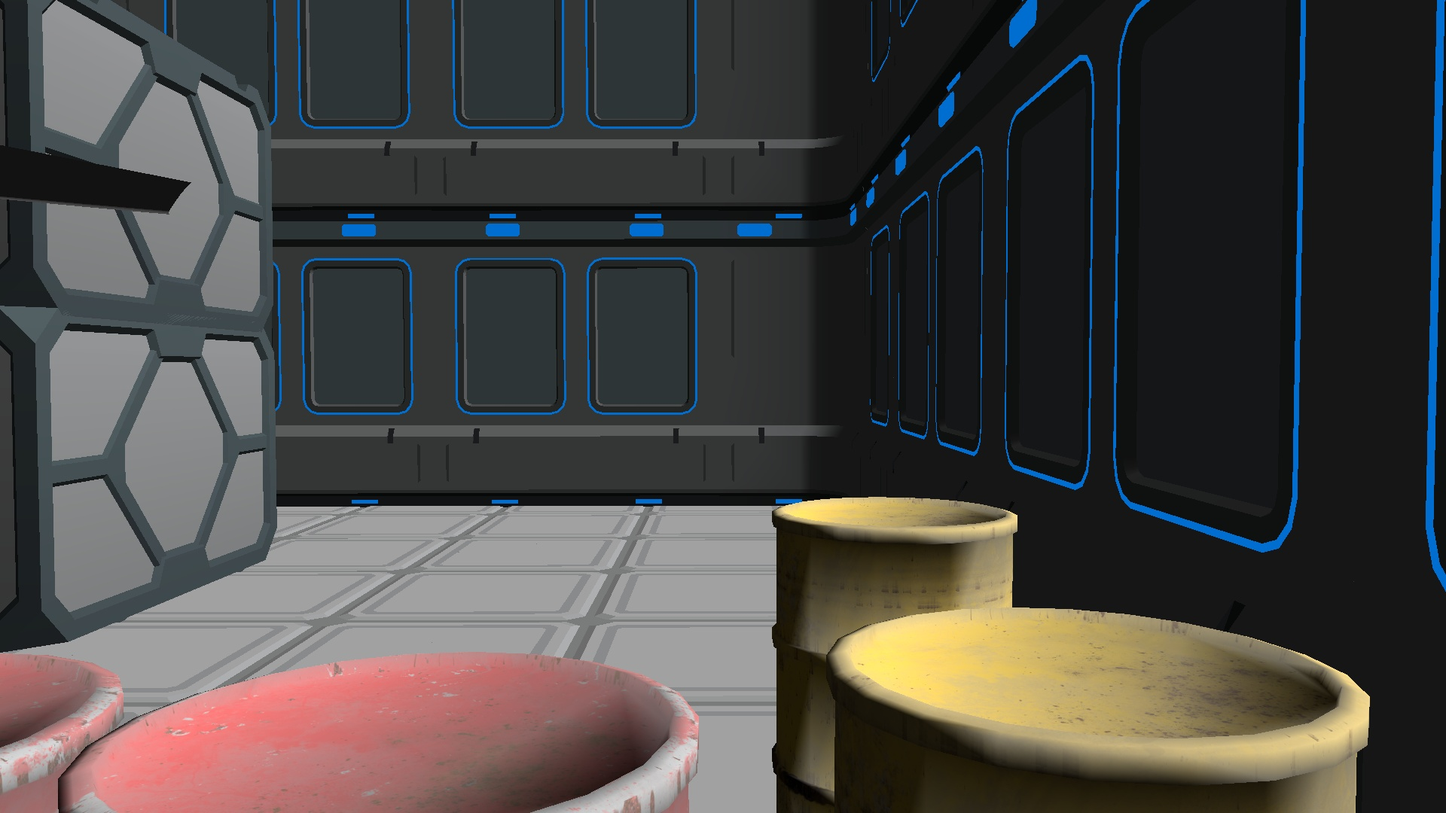toxic barrel: (828, 606, 1370, 813), (60, 649, 698, 813), (769, 496, 1018, 813), (0, 650, 125, 813)
